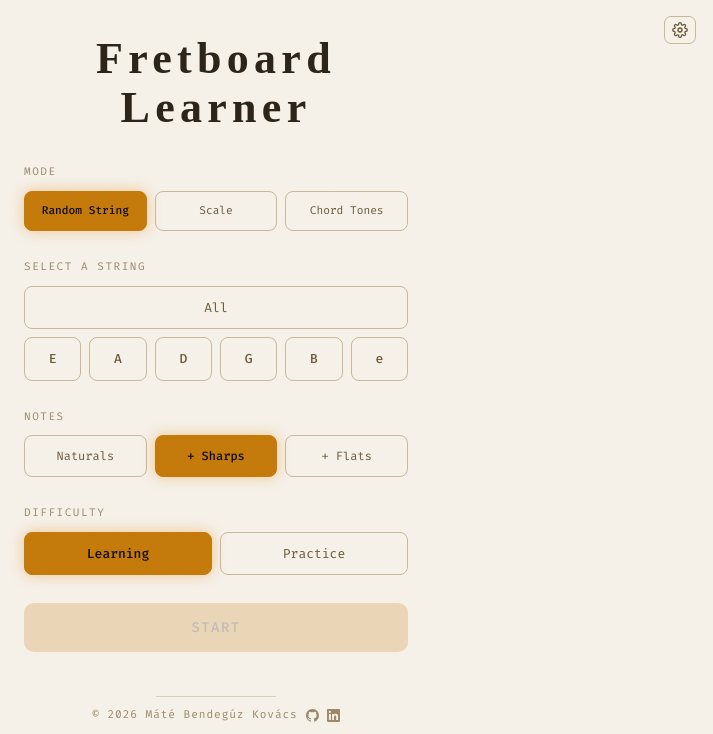
Test case: ModeSelector — key picker › renders all 12 chromatic key buttons when Scale mode is active
Click the button "Scale" at (216, 211), box [155,191,277,231]
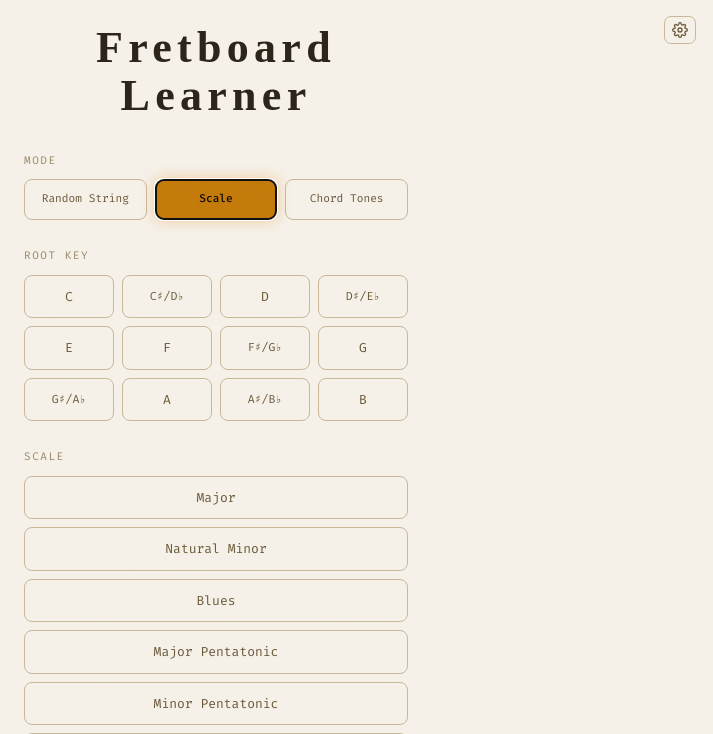
Expected: the button "C" is shown, [24,275,114,318]
Expected: the button "C♯/D♭" is shown, [122,275,212,318]
Expected: the button "D♯/E♭" is shown, [318,275,408,318]
